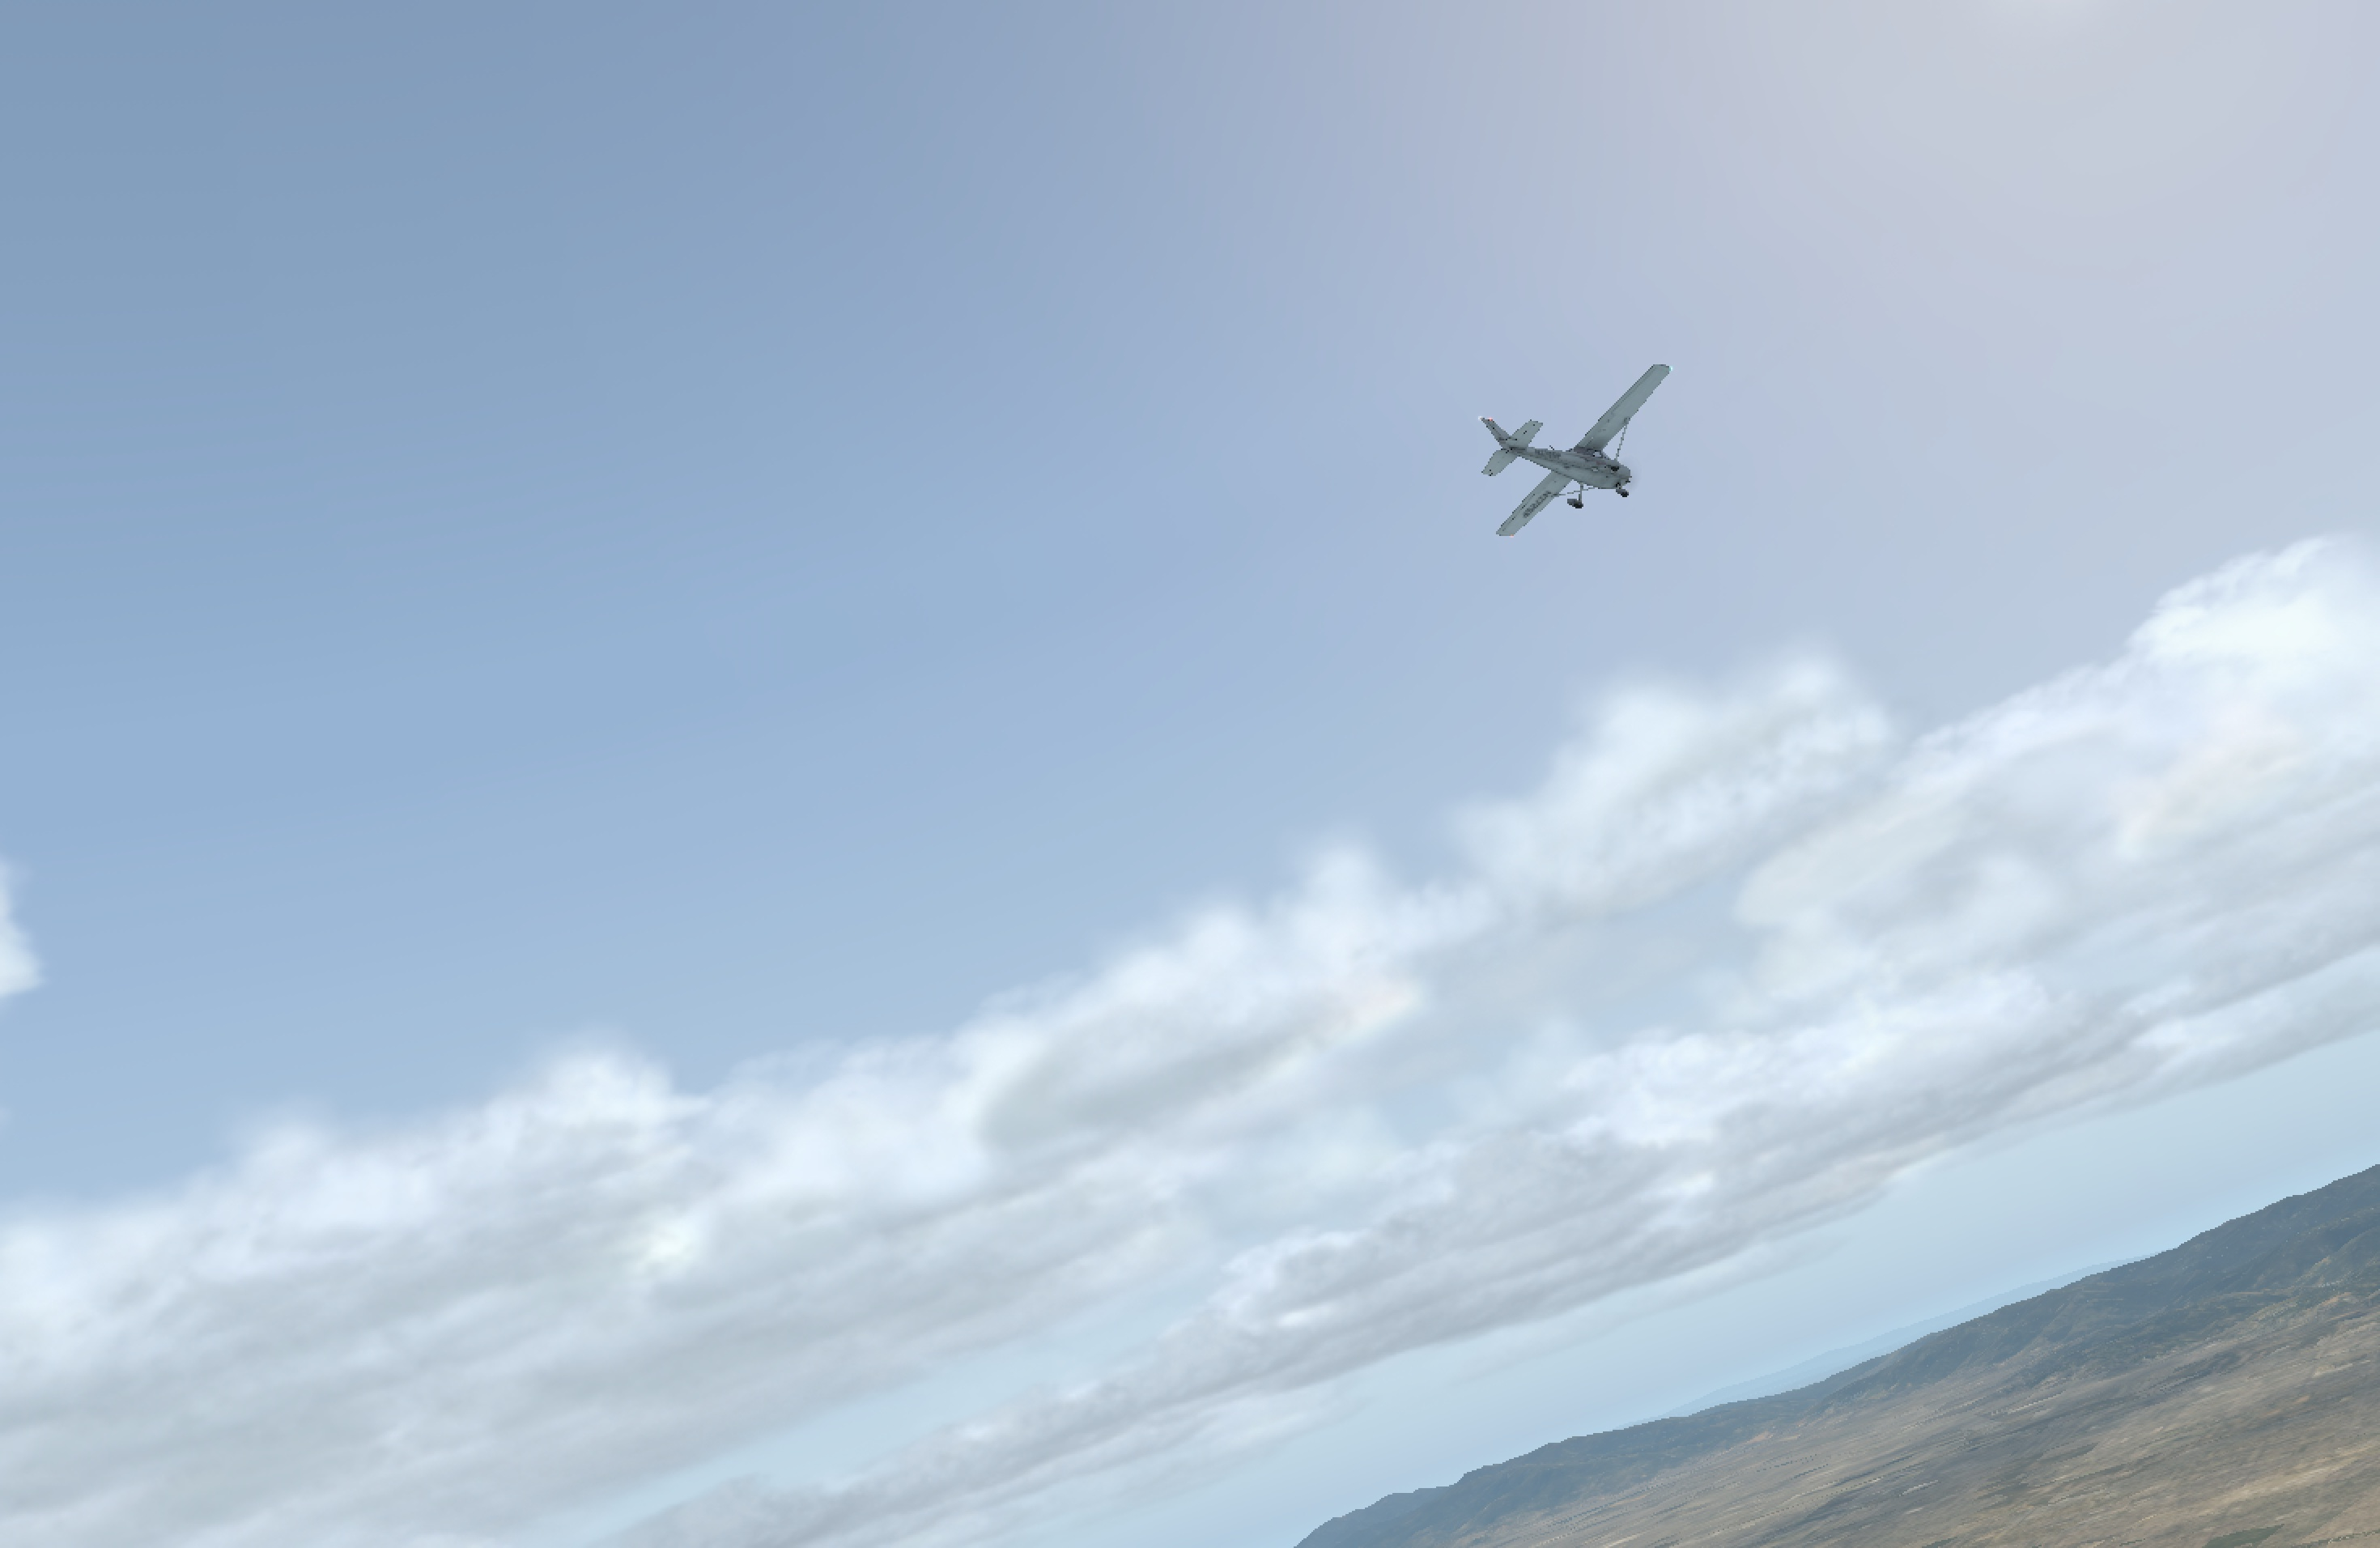aircraft: (1502, 433, 1680, 500)
